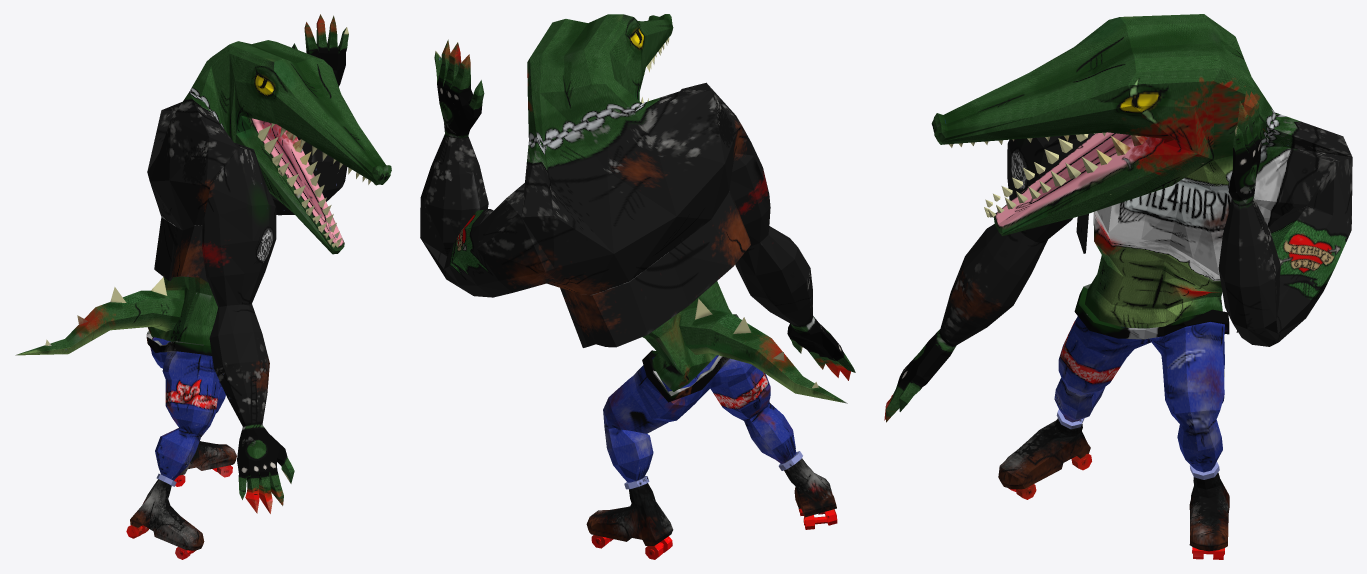
The model's file is cocodrilaBonesSelect_000021.obj.
3 views of the same model, side by side, from view 1: azimuth 30°, elevation 25°; view 2: azimuth 150°, elevation 25°; view 3: azimuth 270°, elevation 25° (orthographic). The views are drawn at different scales.
Visible parts, largest first — view 1: Crocodile.002_Cylinder.002; view 2: Crocodile.002_Cylinder.002; view 3: Crocodile.002_Cylinder.002.
Part boxes in pixels (bbox=[...]): Crocodile.002_Cylinder.002: bbox=[15, 14, 391, 559]; Crocodile.002_Cylinder.002: bbox=[420, 14, 855, 559]; Crocodile.002_Cylinder.002: bbox=[884, 14, 1352, 559].
Size of the model in its own units: 5.22 by 6.17 by 4.7.
